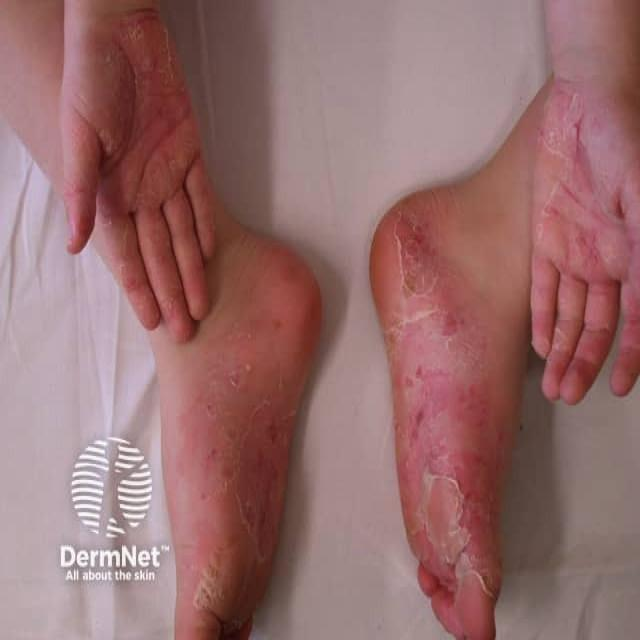Eczema: (377, 218, 508, 633), (193, 258, 311, 616), (89, 14, 200, 231), (521, 86, 614, 292)
